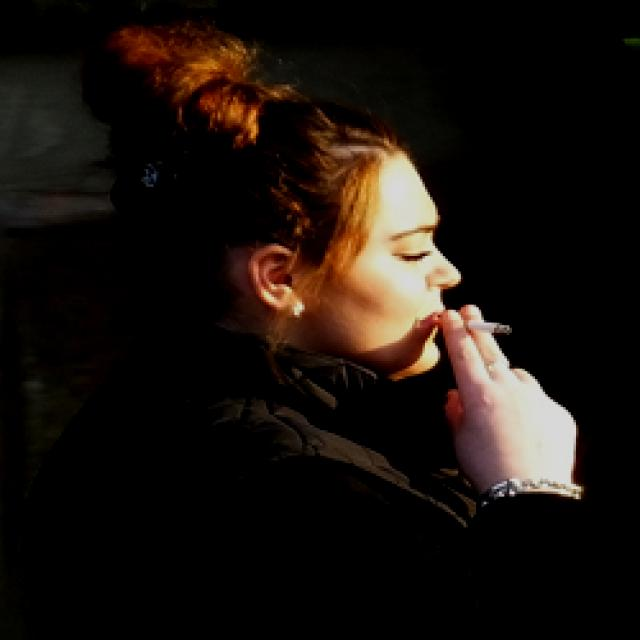Smooking: (468, 316, 512, 347)
